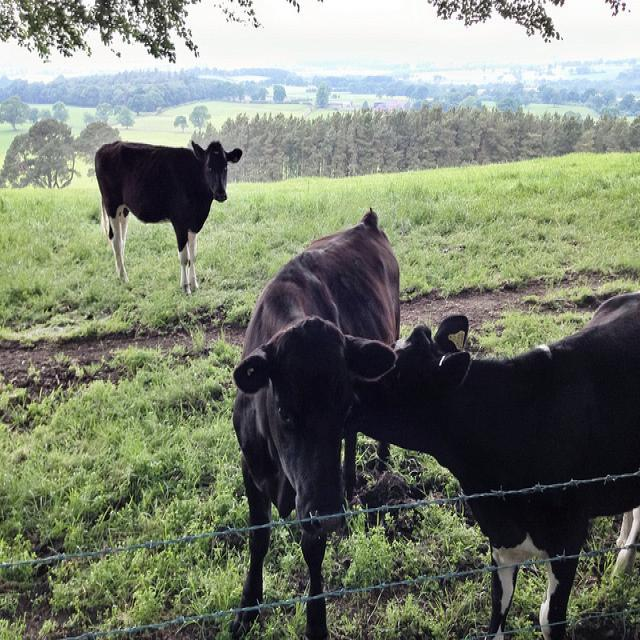cow: (346, 292, 639, 639), (228, 213, 401, 628), (93, 137, 242, 295)
